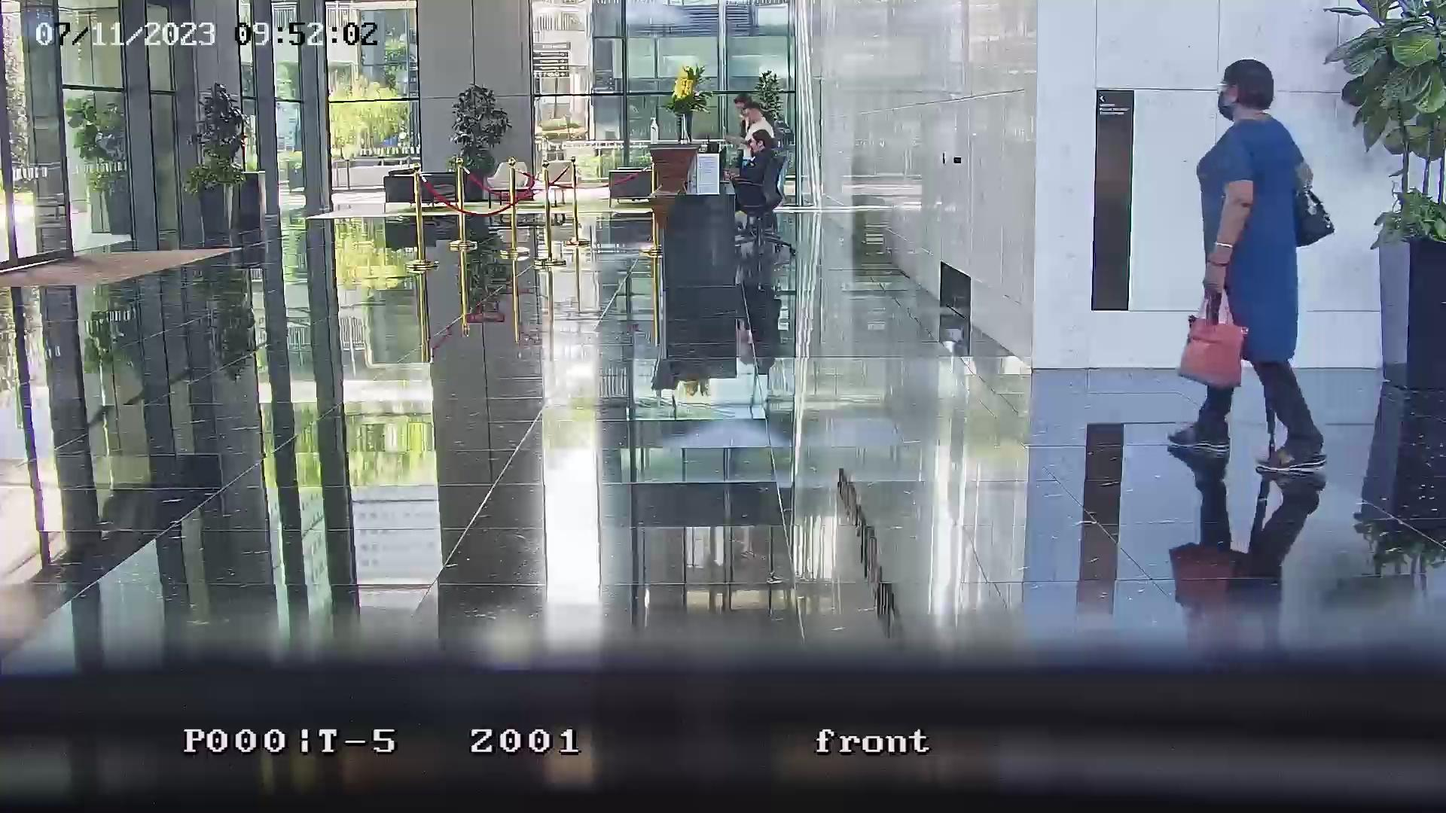person: (1167, 57, 1329, 477), (725, 127, 781, 211), (733, 98, 776, 154)
